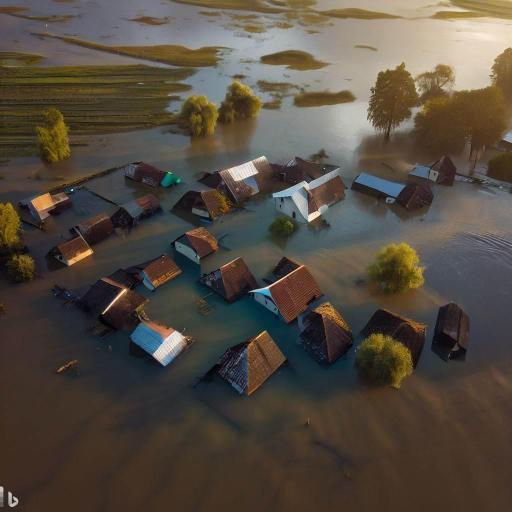flood: (0, 182, 512, 512), (0, 0, 512, 102), (88, 100, 424, 208), (45, 186, 118, 237), (84, 168, 159, 204)
house: (255, 254, 324, 326), (353, 308, 427, 374), (213, 330, 287, 396), (82, 269, 148, 329), (199, 154, 275, 204), (302, 303, 352, 367), (351, 172, 434, 210), (130, 317, 189, 367), (200, 254, 261, 302), (273, 181, 317, 231), (432, 299, 468, 355), (133, 253, 182, 291), (173, 188, 229, 220), (18, 189, 74, 220), (124, 160, 174, 192), (178, 226, 220, 264), (69, 210, 113, 245), (114, 194, 160, 226), (410, 155, 460, 183)
